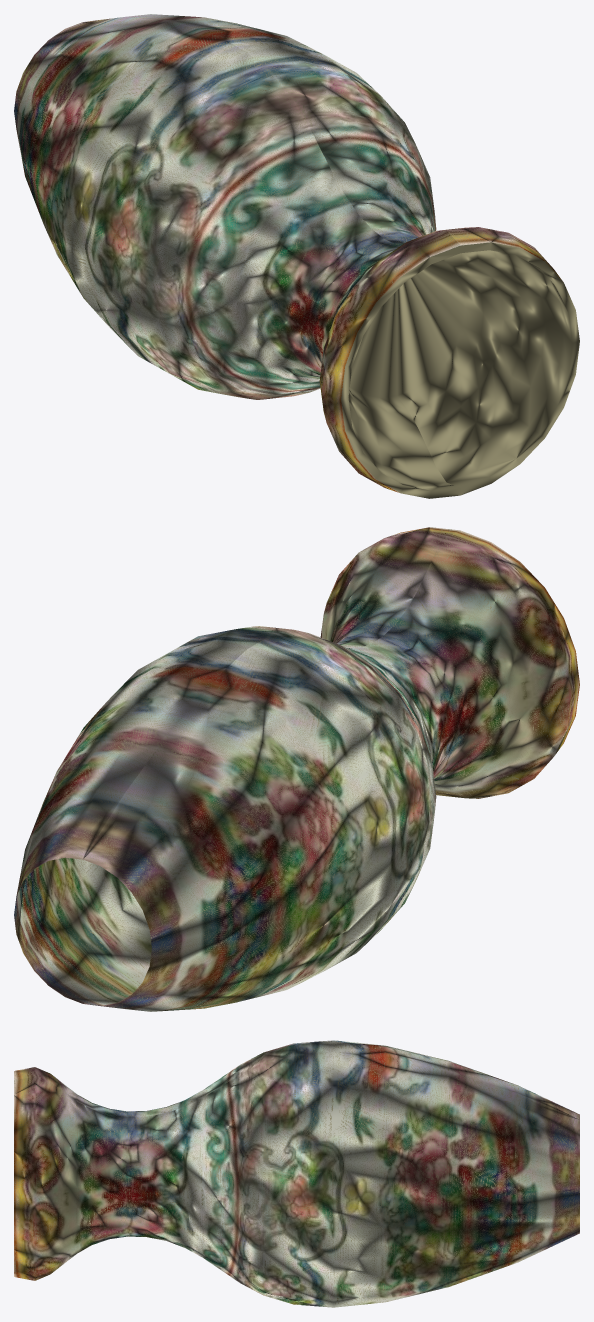
File: model_align.obj
The picture shows the model from 3 angles, top to bottom: view 1: azimuth 30°, elevation 25°; view 2: azimuth 150°, elevation 25°; view 3: azimuth 270°, elevation 25°; orthographic projection. The views are drawn at different scales.
Bounding box in the file's own units: 0.0661 × 0.0661 × 0.1395.
Materials: 2 (2 with a texture image).
